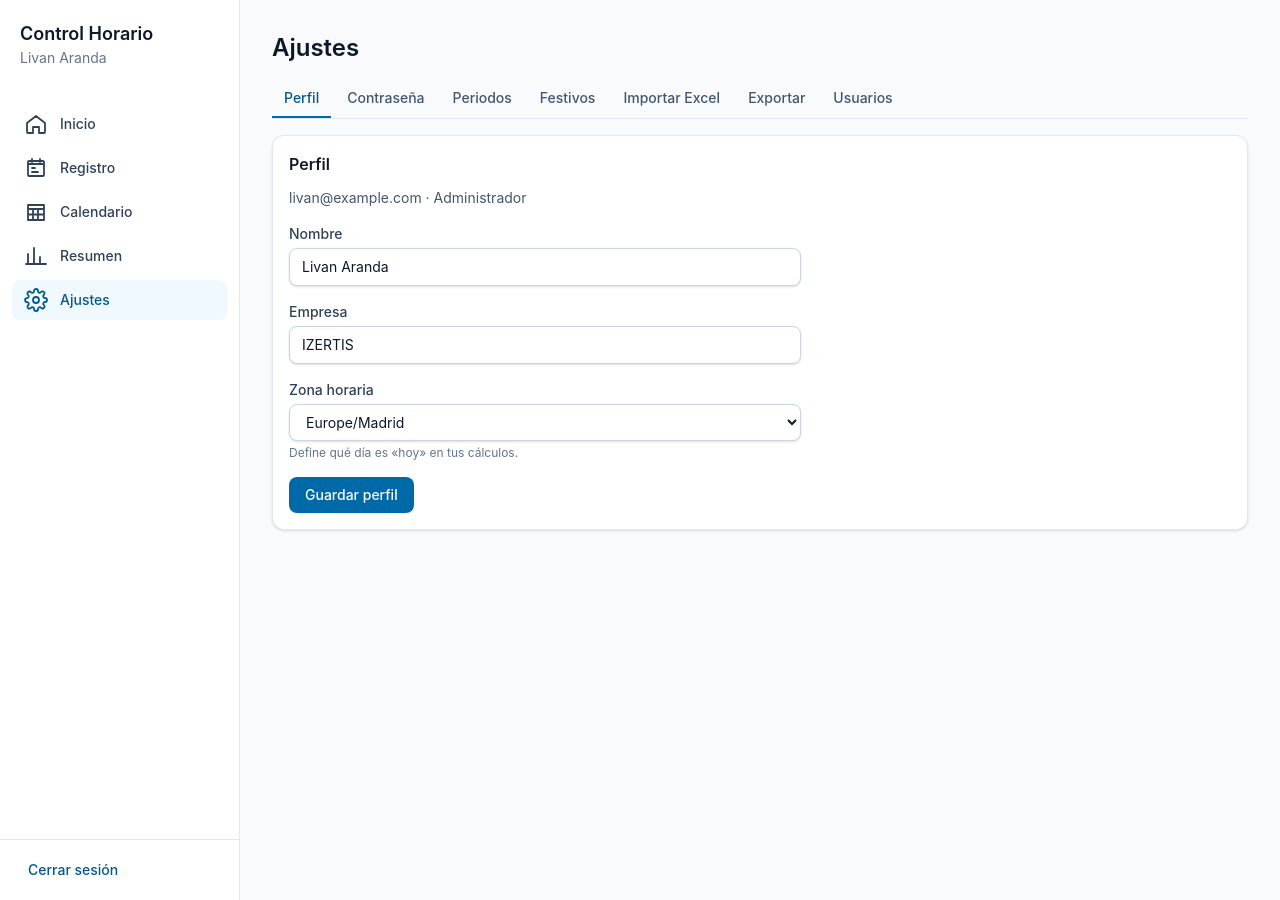
Ajustes › guarda el perfil con PUT /api/me
The width and height of the screenshot is (1280, 900).
Step 1. Replace the text in the field labelled "Nombre" with "Livan A." → (545, 267), box [289, 248, 801, 286]
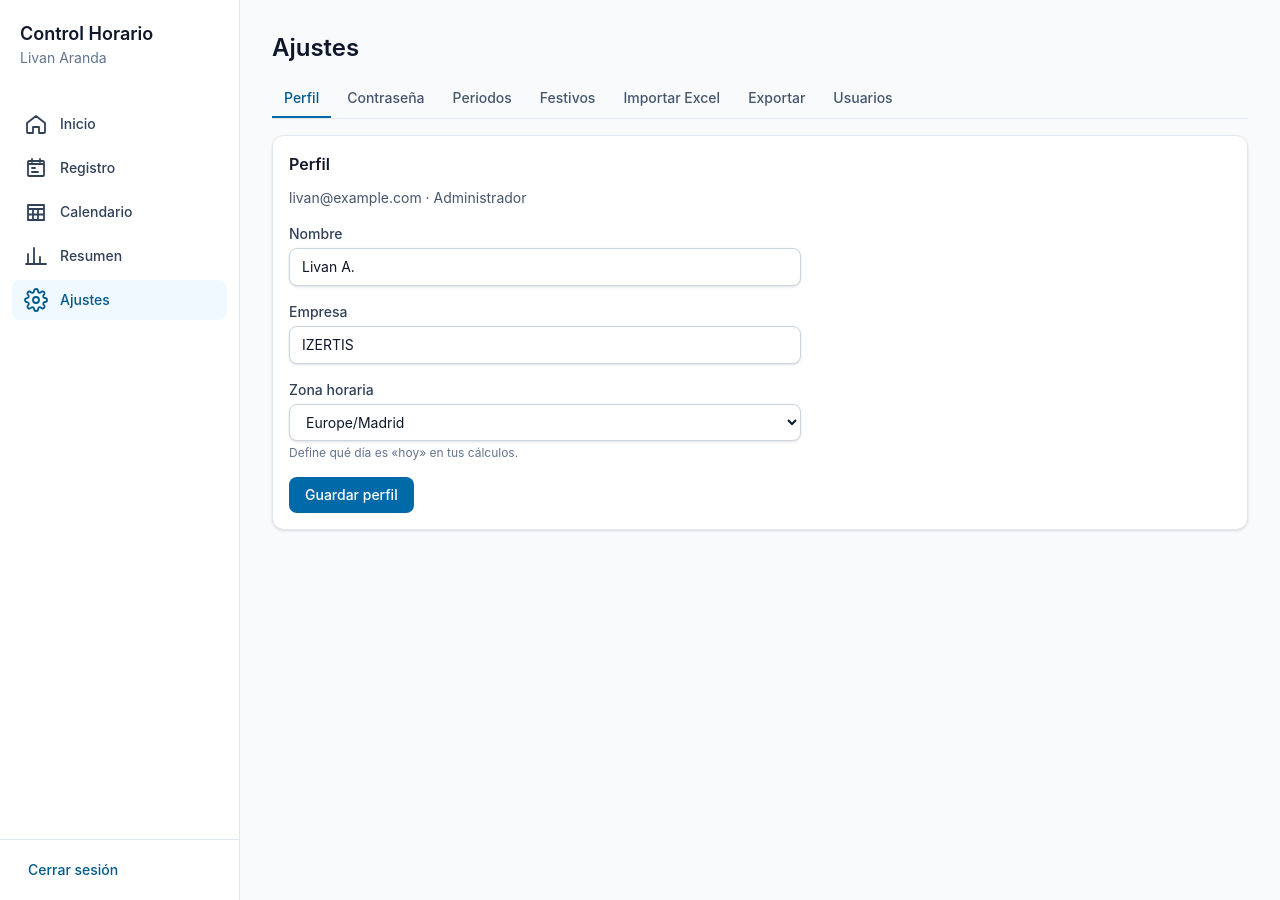
Step 2. Clear the field labelled "Empresa" → (545, 345), box [289, 326, 801, 364]
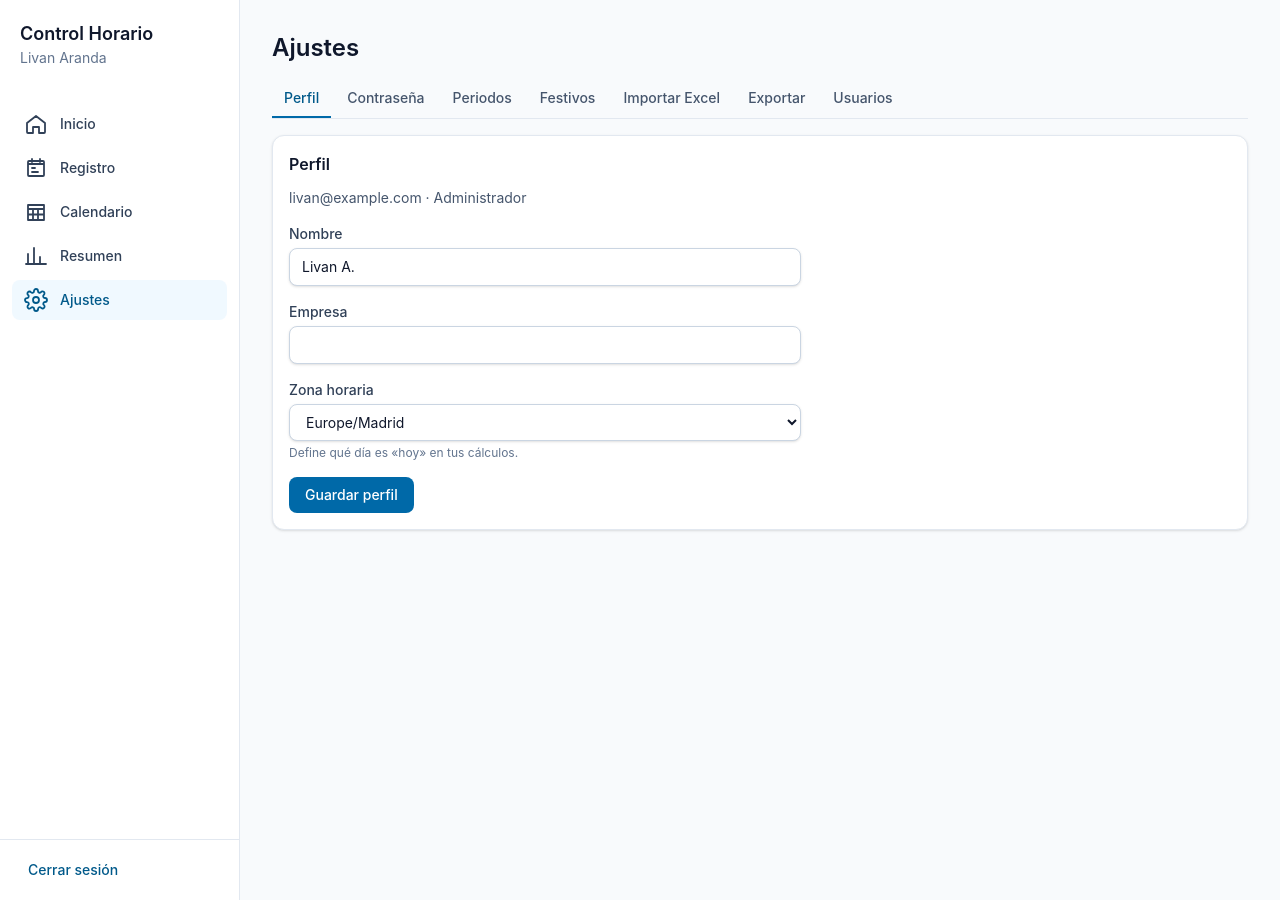
Step 3. Click the button "Guardar perfil" → (351, 495), box [289, 477, 414, 513]
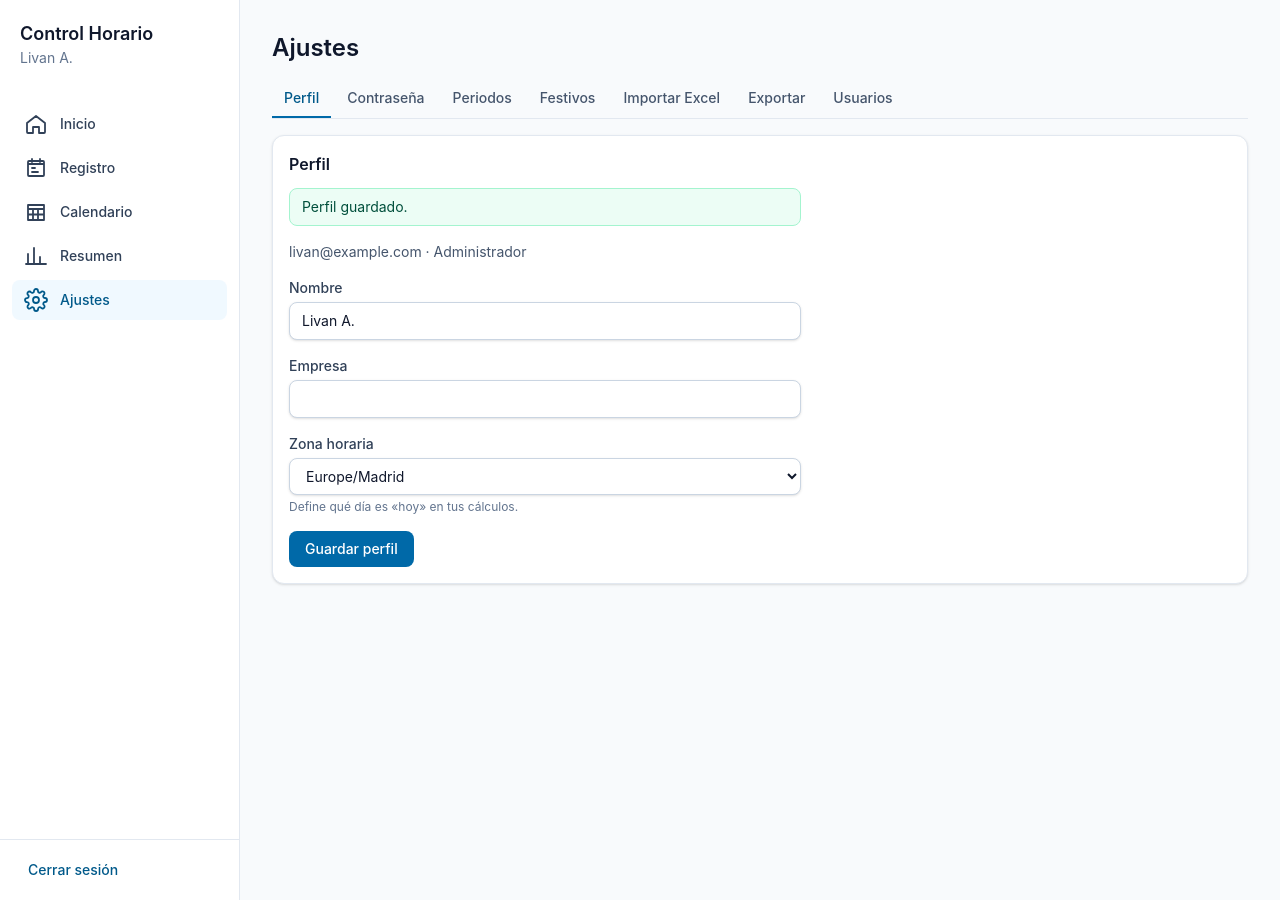
expect the text "Perfil guardado." is shown: met, box [289, 188, 801, 226]
